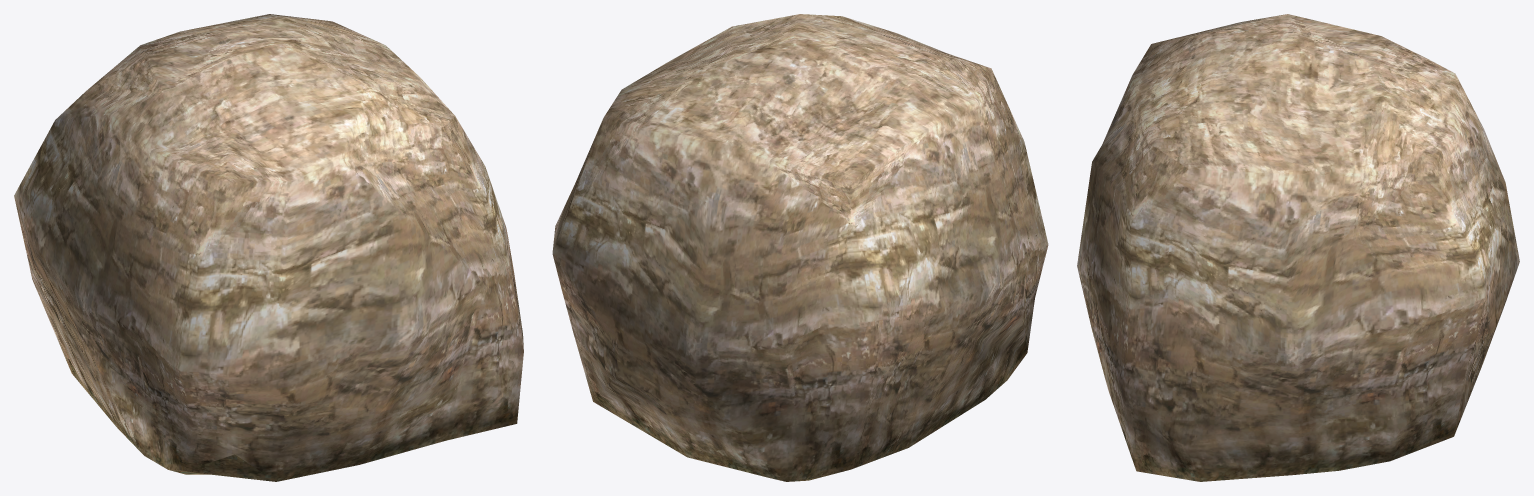
File: thm_all_cavewall_a1_l1.fbx
The picture shows the model from 3 angles, left to right: view 1: azimuth 30°, elevation 25°; view 2: azimuth 150°, elevation 25°; view 3: azimuth 270°, elevation 25°; orthographic projection. The views are drawn at different scales.
Visible parts, largest first — view 1: mesh_node; view 2: mesh_node; view 3: mesh_node.
Boxes of the visible parts, <box> form: mesh_node: <box>14,14,523,481</box>; mesh_node: <box>552,14,1048,481</box>; mesh_node: <box>1077,14,1519,481</box>.
Size of the model in its own units: 11.24 by 10.79 by 11.11.
